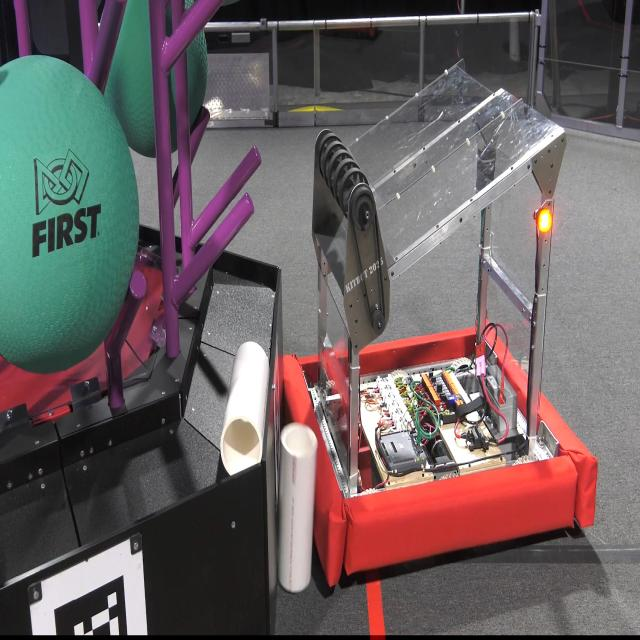Coral: (277, 421, 318, 594), (219, 339, 269, 476)
